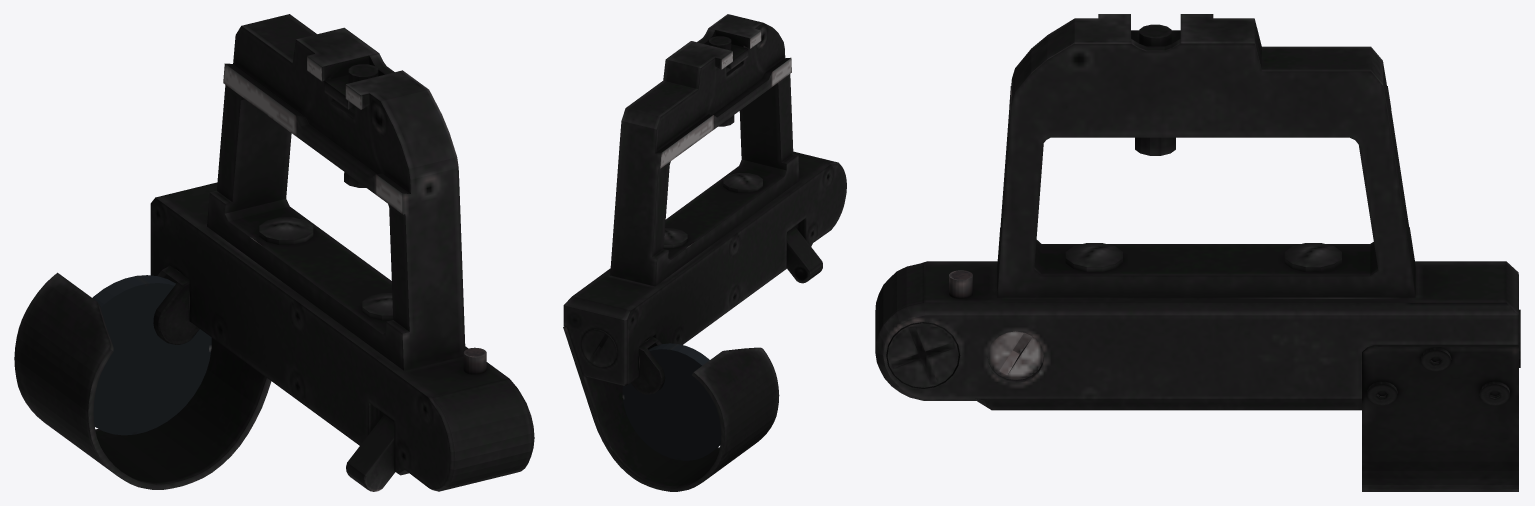
The picture shows the model from 3 angles, left to right: view 1: azimuth 30°, elevation 25°; view 2: azimuth 150°, elevation 25°; view 3: azimuth 270°, elevation 25°; orthographic projection. The views are drawn at different scales.
Visible parts, largest first — view 1: TW_57486e672459770abd687134_PZ_Import; view 2: TW_57486e672459770abd687134_PZ_Import; view 3: TW_57486e672459770abd687134_PZ_Import.
Part boxes in pixels (bbox=[...]): TW_57486e672459770abd687134_PZ_Import: bbox=[14, 14, 534, 491]; TW_57486e672459770abd687134_PZ_Import: bbox=[563, 14, 846, 491]; TW_57486e672459770abd687134_PZ_Import: bbox=[875, 14, 1520, 491].
Bounding box in the file's own units: 0.0326 × 0.0767 × 0.0652.
1 material, 1 textured.
